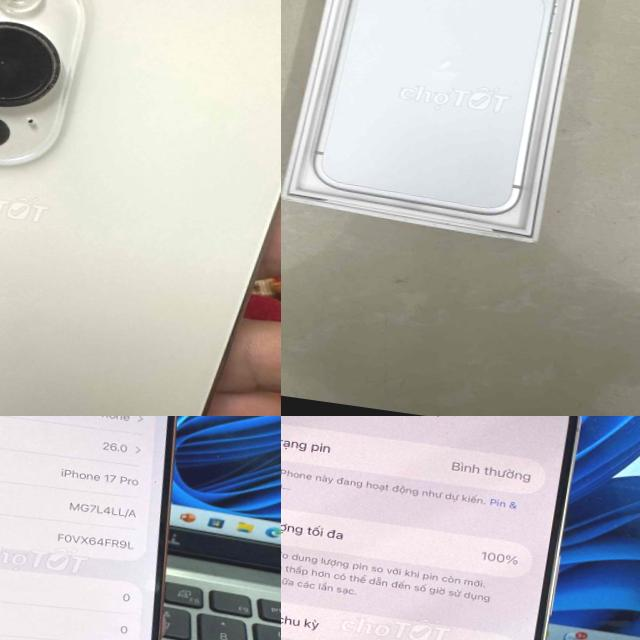gen_14: (0, 0, 281, 416)
gen_17: (281, 416, 589, 640), (298, 0, 583, 240), (0, 416, 228, 640)
